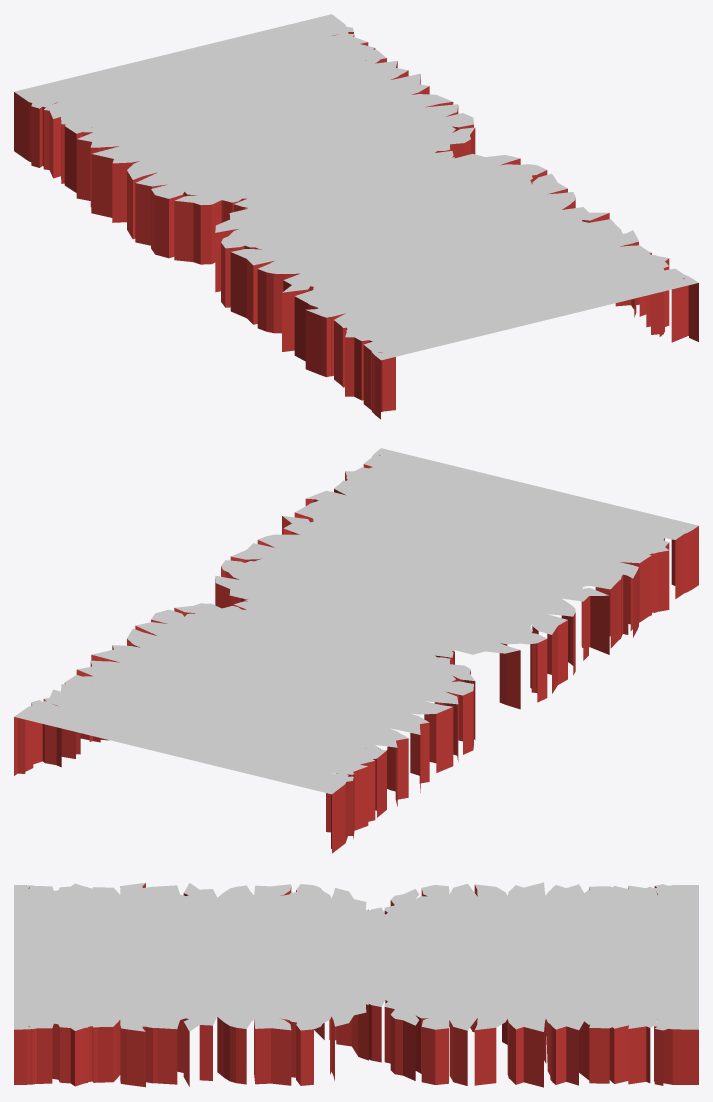
Rendered from newice3 4.fbx.
3 renders of one model, top to bottom at view 1: azimuth 30°, elevation 25°; view 2: azimuth 150°, elevation 25°; view 3: azimuth 270°, elevation 25°, orthographic. The views are drawn at different scales.
Parts seen in each view (by area): view 1: r, r.001; view 2: r, r.001; view 3: r, r.001.
Boxes of the visible parts, bbox=[...] form: r: bbox=[14, 17, 698, 419]; r.001: bbox=[14, 14, 697, 412]; r: bbox=[14, 448, 698, 853]; r.001: bbox=[14, 448, 688, 850]; r: bbox=[14, 882, 692, 1087]; r.001: bbox=[14, 882, 698, 1087].
Size of the model in its own units: 2899 by 500 by 5600.
